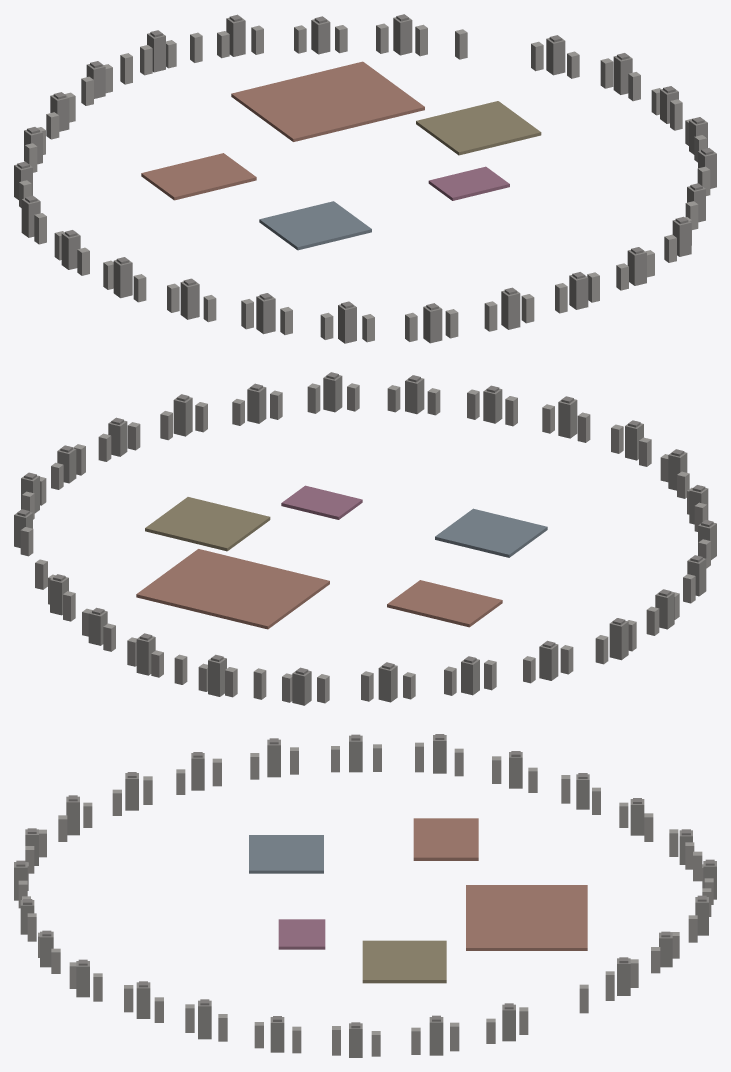
Rendered from ciudad_castillo_real_1183_2684_01.glb.
3 views of the same model, one above another, from view 1: azimuth 30°, elevation 25°; view 2: azimuth 150°, elevation 25°; view 3: azimuth 270°, elevation 25° (orthographic). The views are drawn at different scales.
Parts seen in each view (by area): view 1: ciudad_castillo_real_1183_2684; view 2: ciudad_castillo_real_1183_2684; view 3: ciudad_castillo_real_1183_2684.
Part boxes in pixels (bbox=[...]): ciudad_castillo_real_1183_2684: bbox=[14, 14, 716, 343]; ciudad_castillo_real_1183_2684: bbox=[14, 372, 716, 705]; ciudad_castillo_real_1183_2684: bbox=[14, 734, 716, 1057].
Size of the model in its own units: 60.7 by 3.4 by 61.9.
